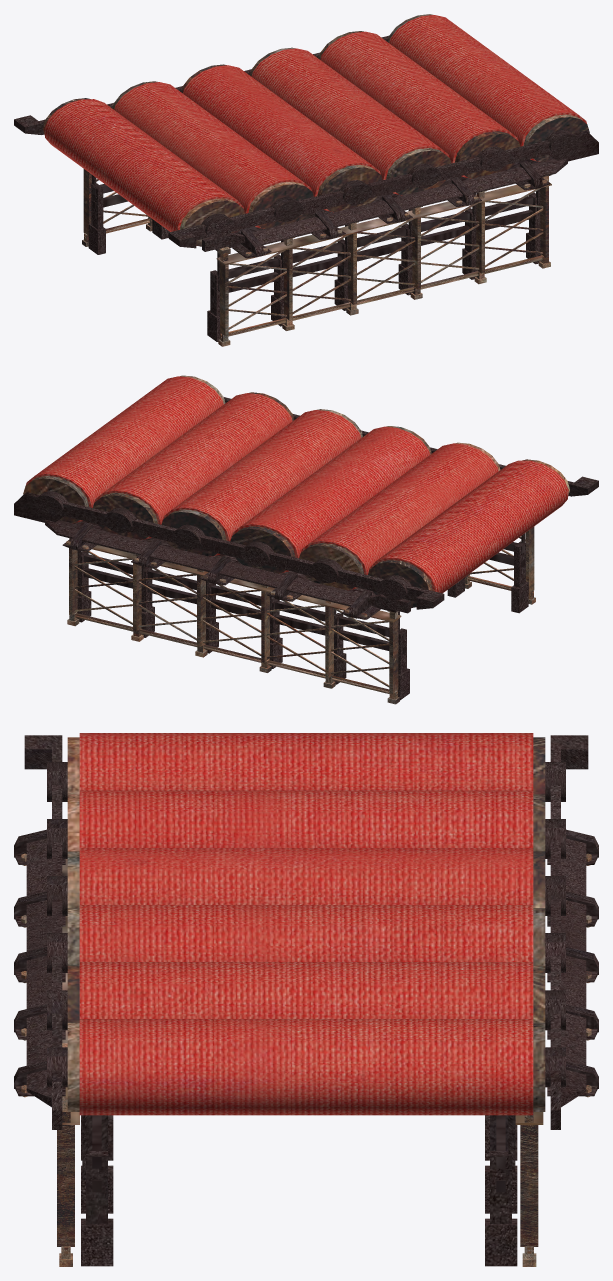
3 renders of one model, top to bottom at view 1: azimuth 30°, elevation 25°; view 2: azimuth 150°, elevation 25°; view 3: azimuth 270°, elevation 25°, orthographic. The views are drawn at different scales.
Visible parts, largest first — view 1: ConveyerBelt_OBJ; view 2: ConveyerBelt_OBJ; view 3: ConveyerBelt_OBJ.
Boxes of the visible parts, left/top/right/bottom form: ConveyerBelt_OBJ: left=14, top=14, right=598, bottom=346; ConveyerBelt_OBJ: left=14, top=375, right=598, bottom=704; ConveyerBelt_OBJ: left=14, top=733, right=598, bottom=1266.
Size of the model in its own units: 1.08 by 0.3515 by 0.7503.
3 materials, 3 textured.
